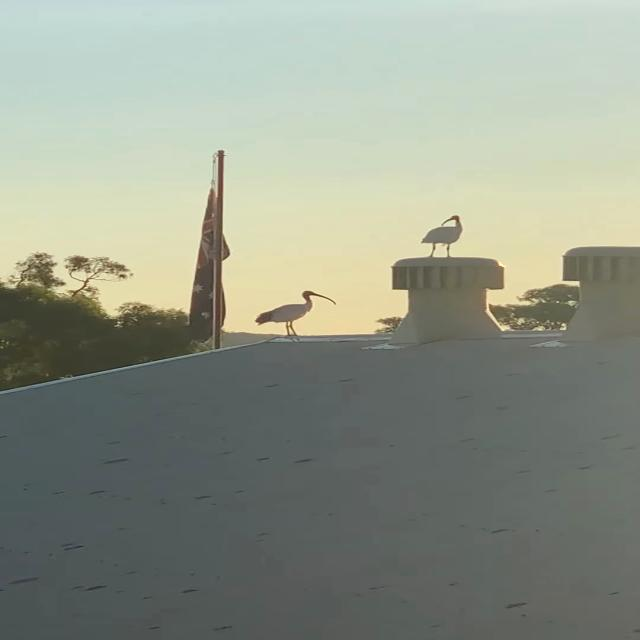Birds-Ibis: (252, 288, 336, 340), (419, 214, 468, 259)
